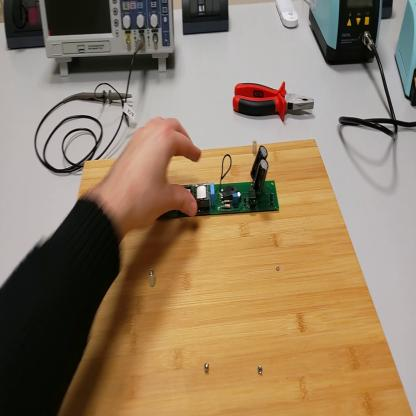hand: (111, 117, 202, 230)
high voltage board: (157, 145, 280, 220)
oscilloscope: (39, 1, 176, 81)
oscilloscope probe tip: (79, 87, 133, 105)
pliers: (233, 84, 315, 125)
socket: (4, 2, 47, 53), (381, 2, 394, 21)
welder base: (396, 3, 416, 108)
welder station: (309, 2, 384, 67)
working area: (64, 140, 414, 415)
